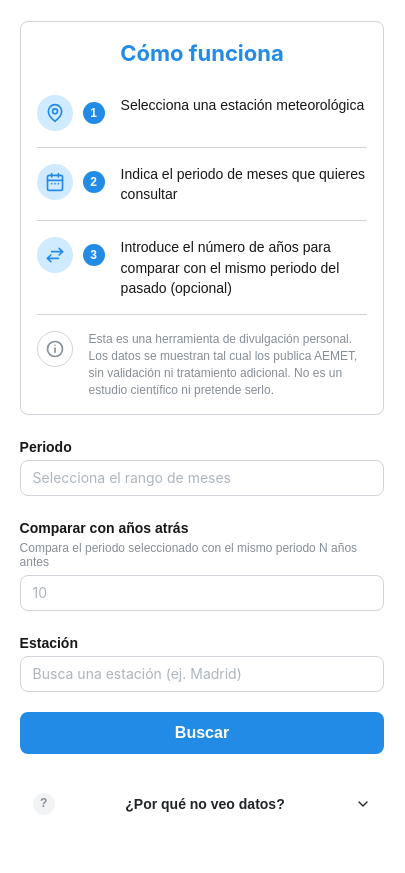
Test: SearchSection › renders the how-it-works banner and the missing-data info section
Check: the heading "Cómo funciona" is shown, box [120,40,284,66]
Check: the text "Selecciona una estación meteorológica" is shown, box [121,95,367,115]
Click the button "? ¿Por qué no veo datos?".
click(202, 804)  # box [20,786,384,822]
(page scrolled)
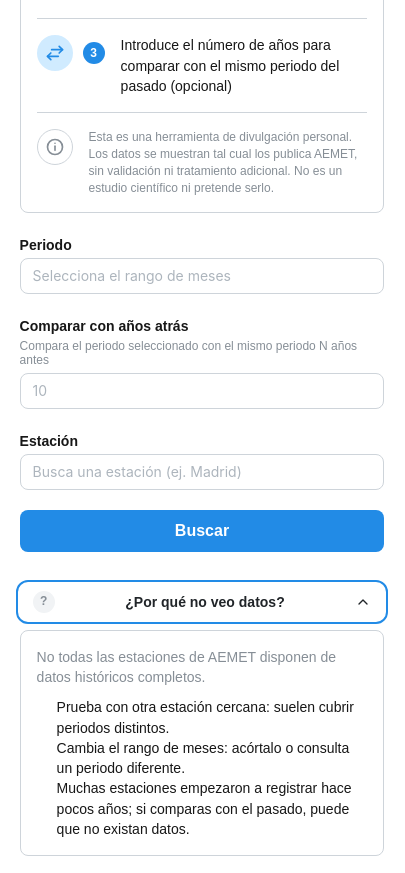
Check: the text "No todas las estaciones de AEMET disponen de datos históricos completos." is shown, box [37,647,367,687]
Check: the text "Cambia el rango de meses: acórtalo o consulta un periodo diferente." is shown, box [57,738,367,778]
